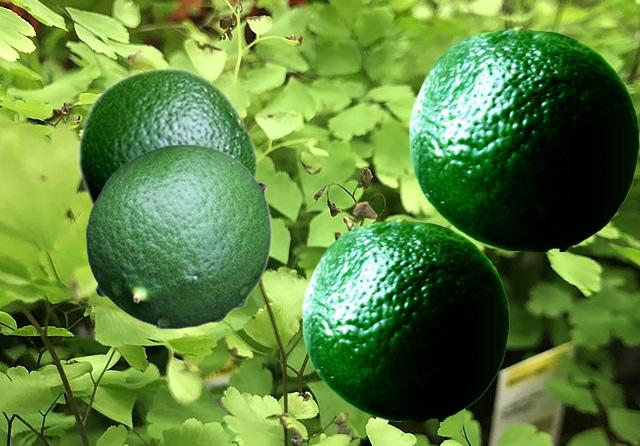calamansi: (409, 25, 638, 250), (302, 217, 508, 420), (85, 143, 271, 328), (76, 66, 258, 211)
